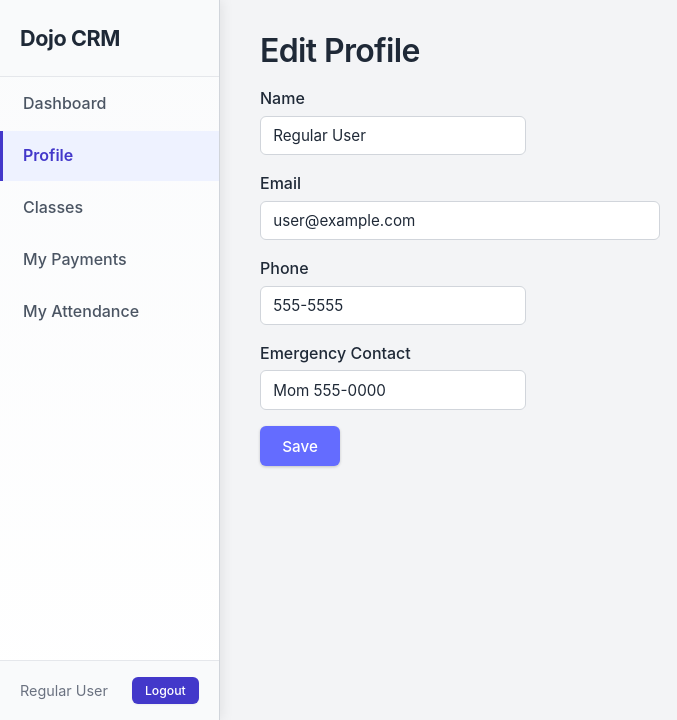
Scenario: ProfileEdit › shows error on save failure
Expected: the field labelled "Name" holds "Regular User", [260,116,526,155]
Click the button "Save". click: (300, 446)
box: [260,426,340,466]
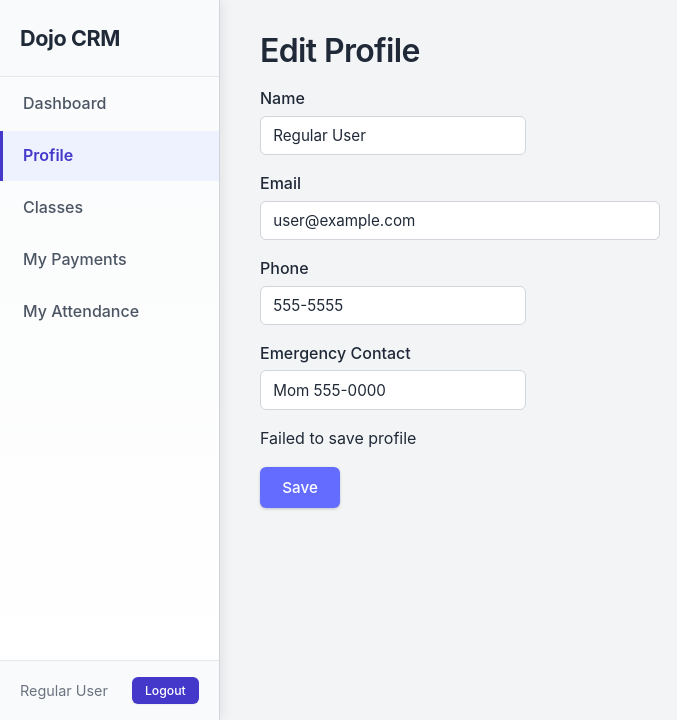
Expected: the message reads "Failed to save profile", [260,428,416,448]
